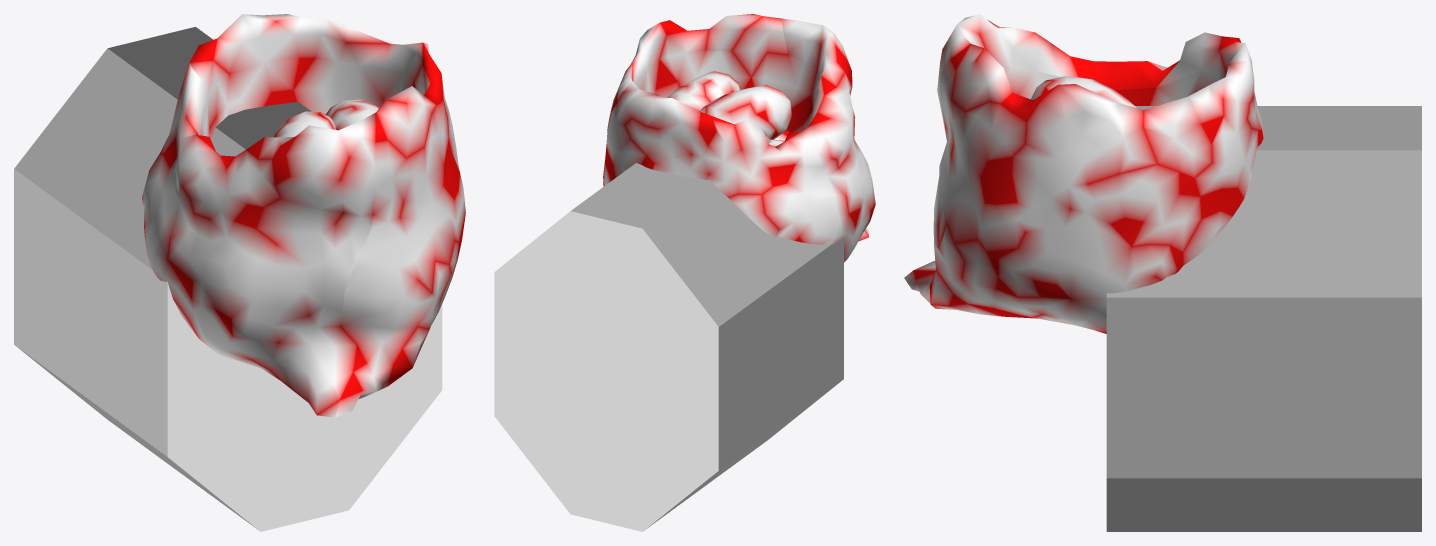
File: SM_PotatoSack01.fbx
3 renders of one model, left to right at view 1: azimuth 30°, elevation 25°; view 2: azimuth 150°, elevation 25°; view 3: azimuth 270°, elevation 25°, orthographic. The views are drawn at different scales.
Visible parts, largest first — view 1: SM_PotatoSack01_LOD0, SM_PotatoSack01_ConvexHulls; view 2: SM_PotatoSack01_ConvexHulls, SM_PotatoSack01_LOD0; view 3: SM_PotatoSack01_ConvexHulls, SM_PotatoSack01_LOD0.
Boxes of the visible parts, x1,y1,x2,y2 form: SM_PotatoSack01_LOD0: (142, 14, 465, 417); SM_PotatoSack01_ConvexHulls: (14, 27, 442, 531); SM_PotatoSack01_ConvexHulls: (494, 136, 843, 531); SM_PotatoSack01_LOD0: (603, 14, 875, 262); SM_PotatoSack01_ConvexHulls: (1106, 106, 1421, 531); SM_PotatoSack01_LOD0: (904, 14, 1263, 333).
Bounding box in the file's own units: 30.5 × 47.88 × 48.7.
